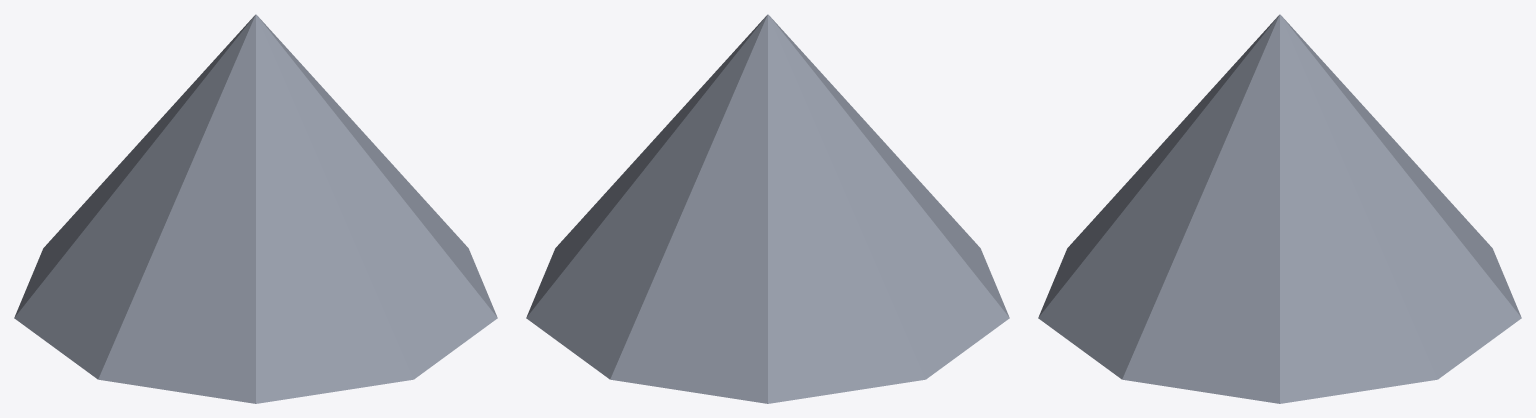
The model's file is cone_mountain.gltf.
The picture shows the model from 3 angles, left to right: view 1: azimuth 30°, elevation 25°; view 2: azimuth 150°, elevation 25°; view 3: azimuth 270°, elevation 25°; orthographic projection.
Parts seen in each view (by area): view 1: mesh; view 2: mesh; view 3: mesh.
Boxes of the visible parts, bbox=[...] form: mesh: bbox=[14, 14, 497, 403]; mesh: bbox=[526, 14, 1009, 403]; mesh: bbox=[1038, 14, 1521, 403].
Bounding box in the file's own units: 13.58 × 9 × 13.79.
